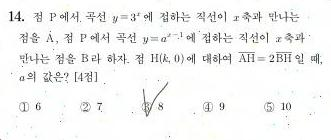choice: (140, 94, 153, 117)
not-choice: (17, 100, 31, 113), (201, 100, 214, 113), (78, 101, 92, 113), (263, 101, 275, 114)
